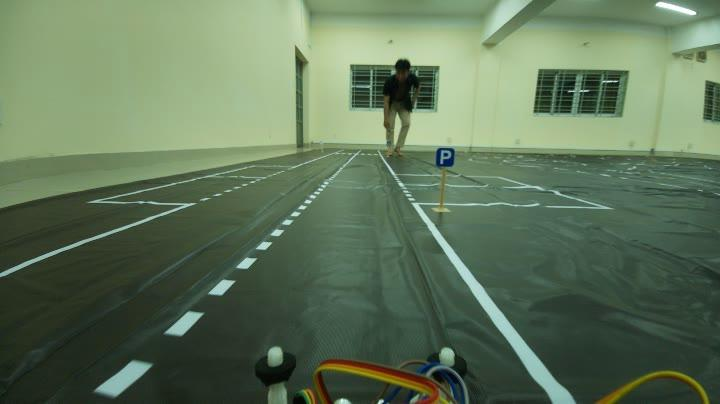parking: (430, 142, 459, 172)
